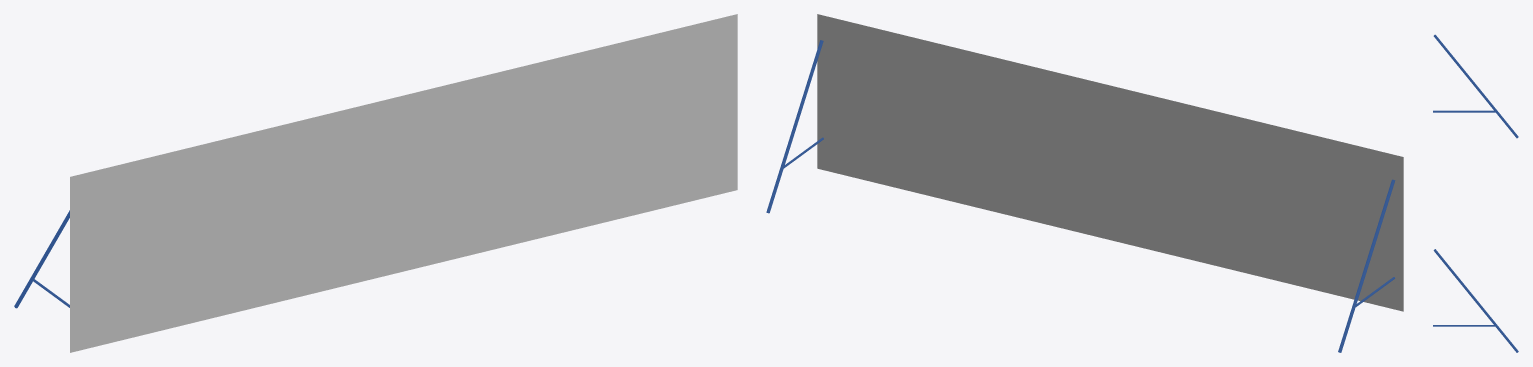
File: 产品 top.fbx
3 renders of one model, left to right at view 1: azimuth 30°, elevation 25°; view 2: azimuth 150°, elevation 25°; view 3: azimuth 270°, elevation 25°, orthographic. The views are drawn at different scales.
Parts seen in each view (by area): view 1: screen, Cylinder_2; view 2: screen, Cylinder_2; view 3: Cylinder_2.
Boxes of the visible parts, box(x1,y1,x2,y2) form: screen: box(70, 14, 737, 352); Cylinder_2: box(14, 210, 69, 308); screen: box(817, 14, 1403, 311); Cylinder_2: box(766, 40, 1395, 352); Cylinder_2: box(1433, 34, 1518, 352).
Size of the model in its own units: 782 by 201 by 130.
